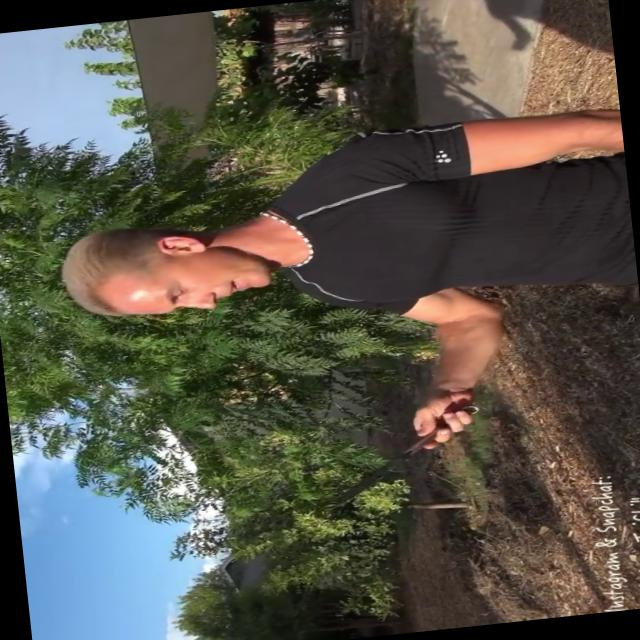knife: (310, 402, 480, 518)
